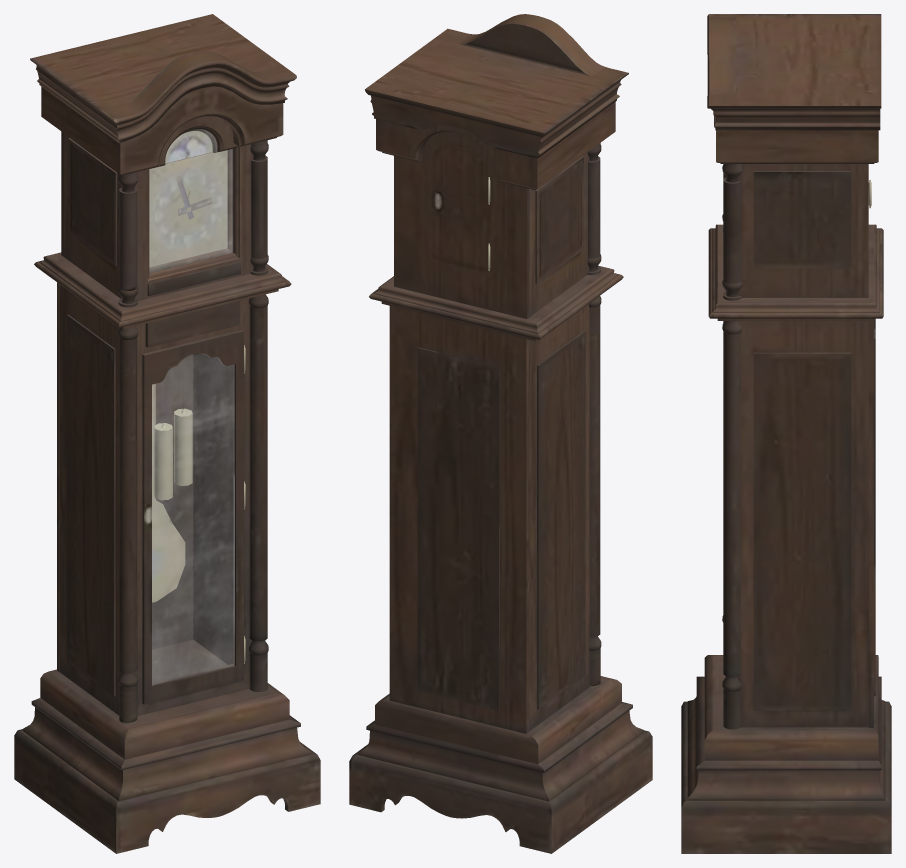
Rendered from SM_Clock_Grandfather_02b.glb.
3 renders of one model, left to right at view 1: azimuth 30°, elevation 25°; view 2: azimuth 150°, elevation 25°; view 3: azimuth 270°, elevation 25°, orthographic. The views are drawn at different scales.
Visible parts, largest first — view 1: SM_Clock_Grandfather_02b; view 2: SM_Clock_Grandfather_02b; view 3: SM_Clock_Grandfather_02b.
Part boxes in pixels (left/top/right/bottom): SM_Clock_Grandfather_02b: left=14, top=14, right=320, bottom=853; SM_Clock_Grandfather_02b: left=349, top=14, right=652, bottom=853; SM_Clock_Grandfather_02b: left=681, top=14, right=891, bottom=853.
Bounding box in the file's own units: 0.578 × 2.04 × 0.5.
Materials: 2 (2 with a texture image).
